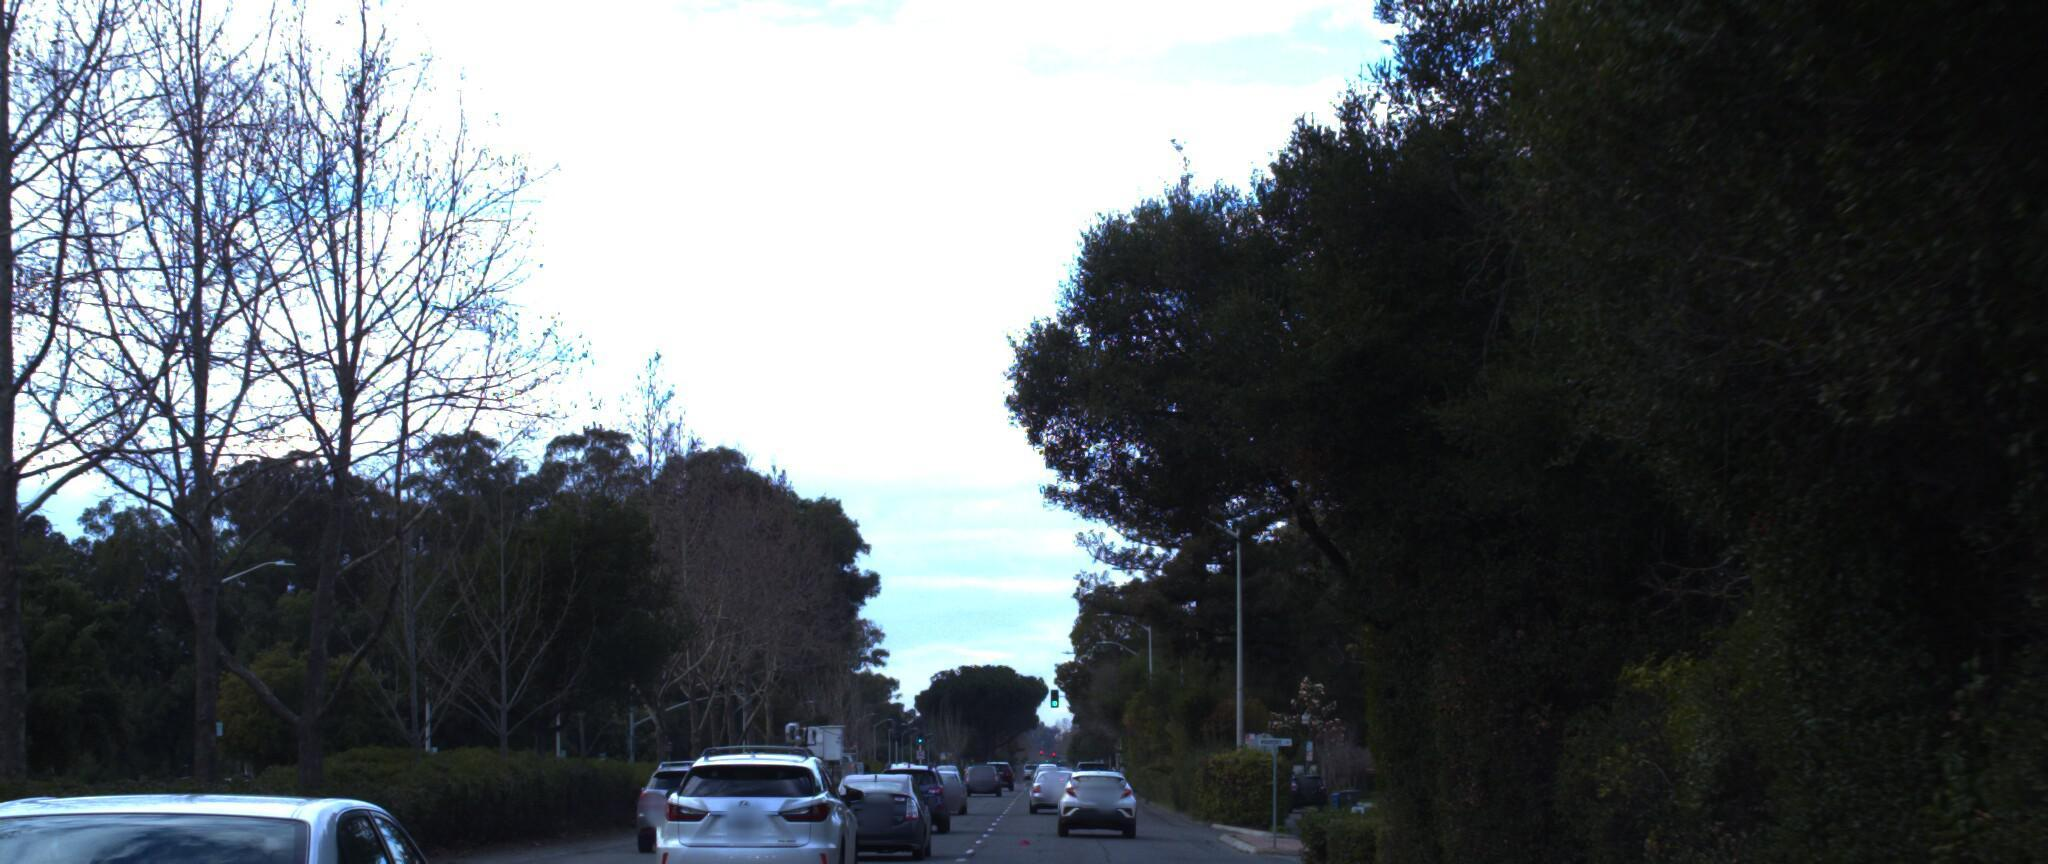car: (0, 688, 551, 864), (649, 732, 865, 864), (812, 758, 935, 854), (613, 758, 735, 848), (1049, 747, 1138, 822), (886, 737, 969, 813)
